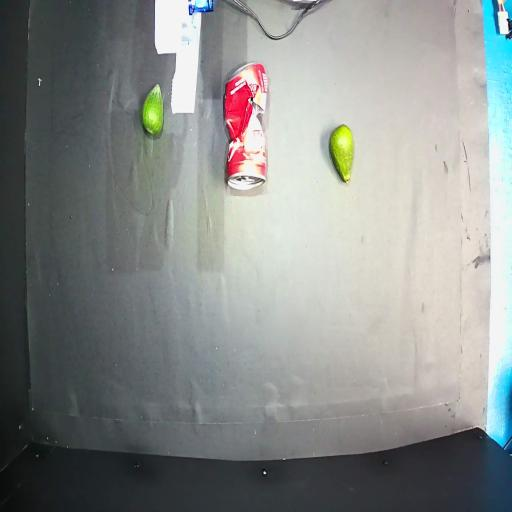higo: (329, 125, 354, 182), (142, 85, 164, 135)
lata_defectuoso: (224, 62, 268, 191)
